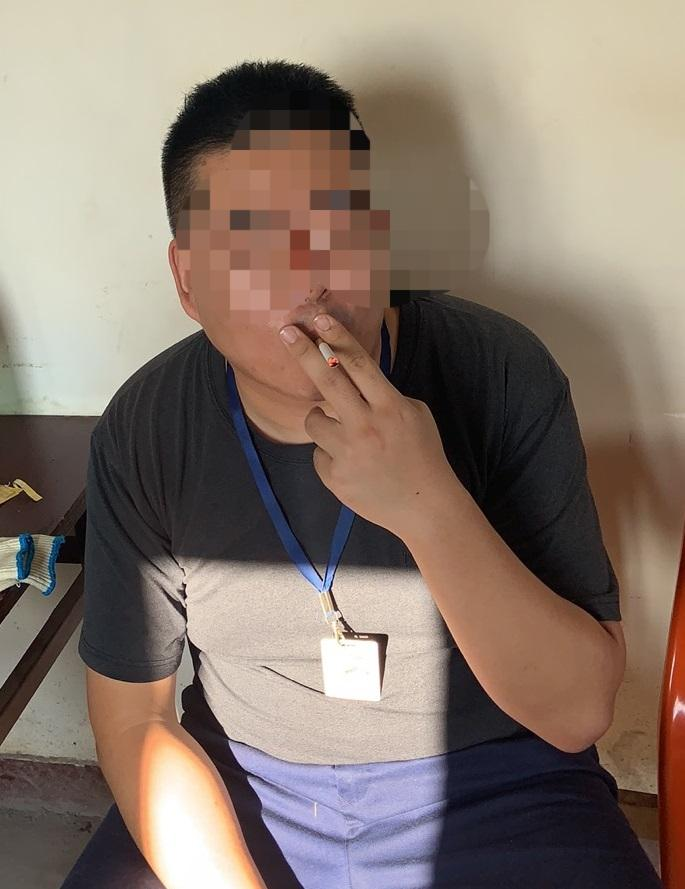smoke: (318, 337, 342, 371)
